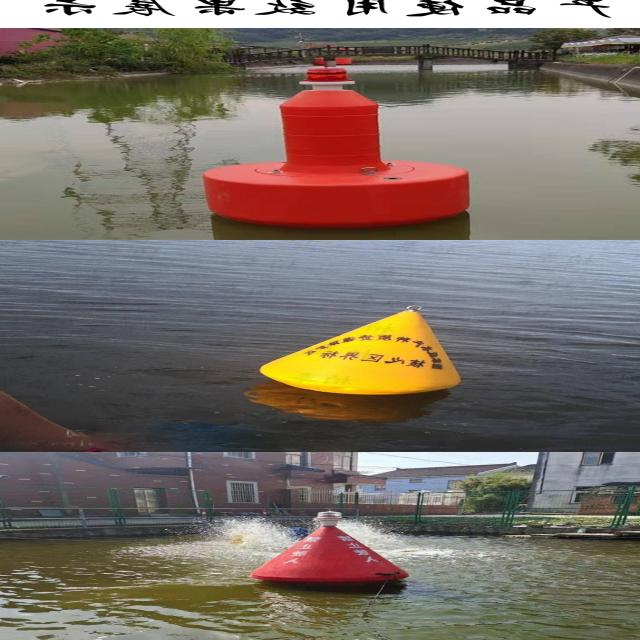buoy: (180, 47, 501, 225), (233, 307, 483, 397), (240, 509, 410, 589)
